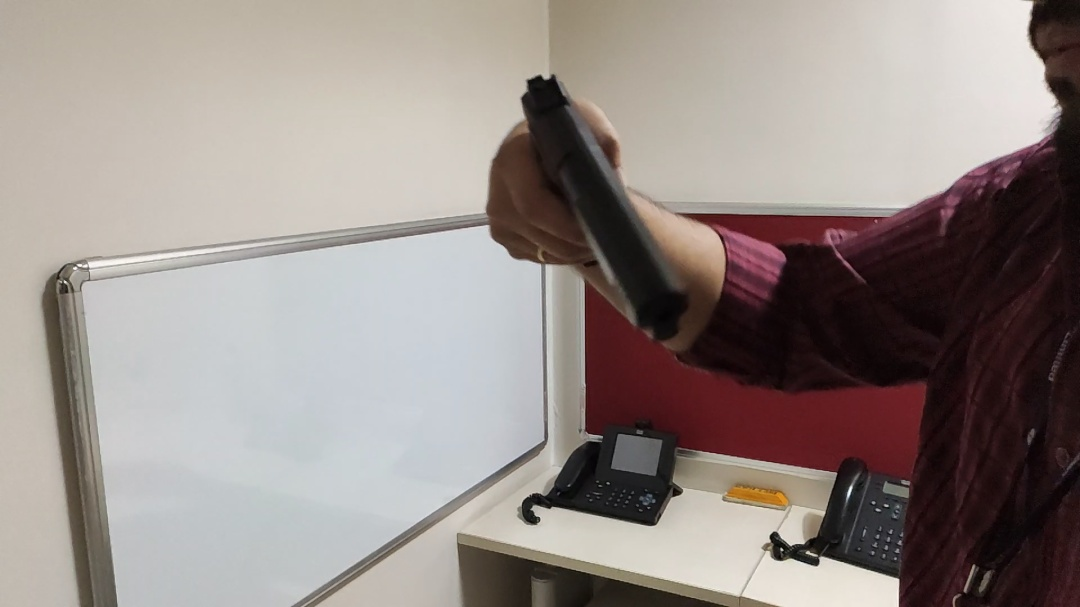gun: (512, 168, 573, 196)
